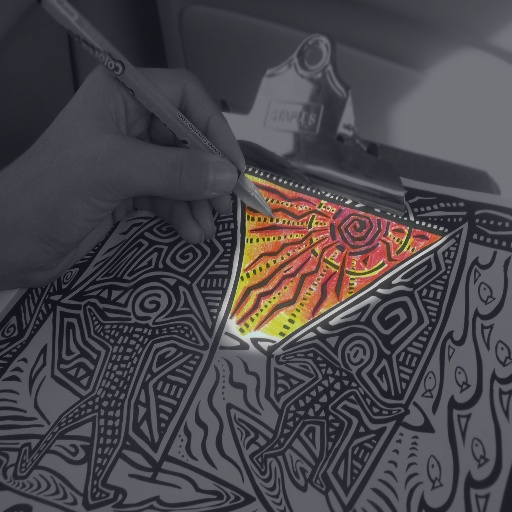hand: (20, 60, 259, 261)
